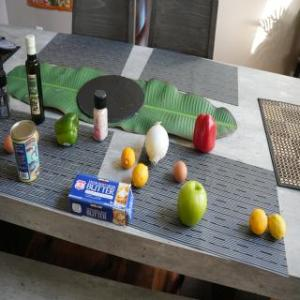bell_pepper: (191, 113, 219, 157), (54, 111, 80, 147)
egg: (174, 160, 189, 182), (3, 134, 17, 152)
onion: (144, 120, 170, 164)
